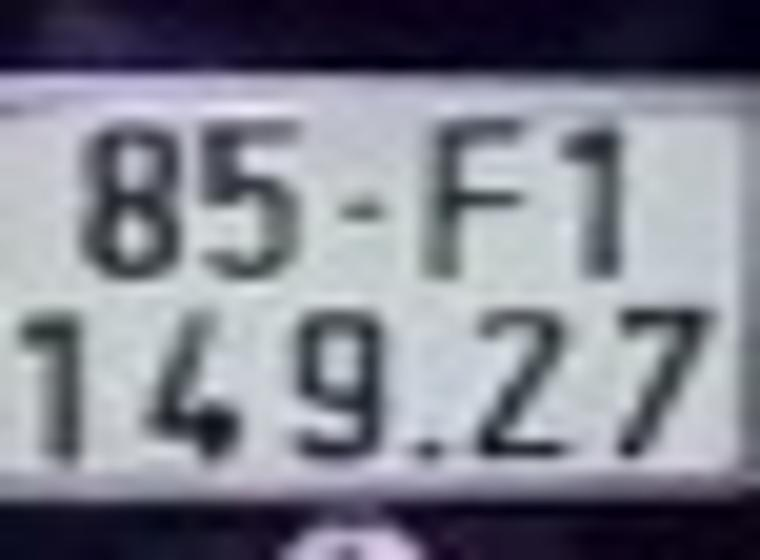-: (337, 200, 390, 231)
.: (404, 436, 451, 472)
1: (553, 117, 640, 287), (13, 307, 98, 474)
2: (470, 307, 582, 471)
4: (141, 311, 248, 471)
5: (198, 106, 304, 289)
7: (614, 301, 725, 463)
8: (87, 119, 187, 287)
9: (288, 310, 392, 470)
F: (410, 108, 532, 285)
